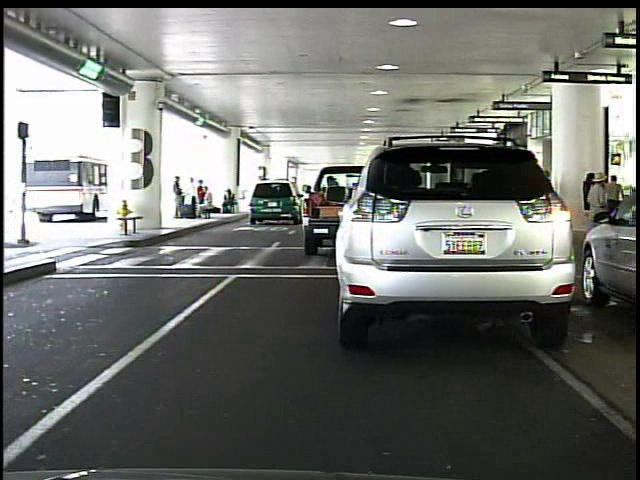person: (584, 169, 614, 254), (604, 173, 627, 233), (166, 171, 187, 223)
